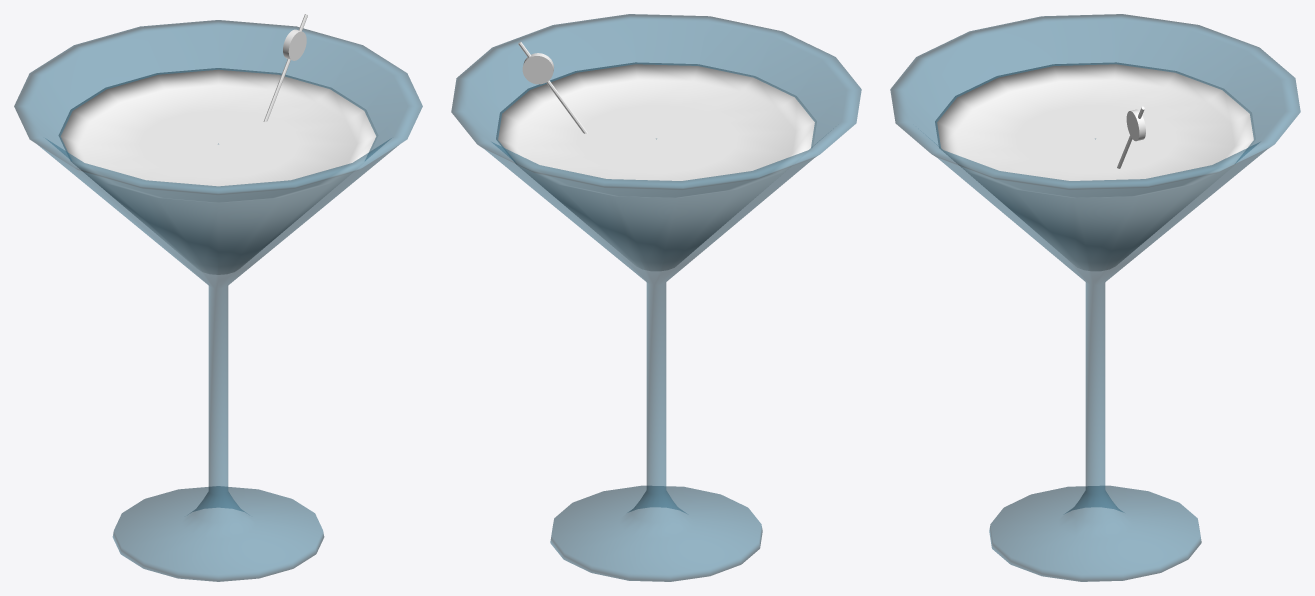
The model's file is Dry Martini1.gltf.
3 views of the same model, side by side, from view 1: azimuth 30°, elevation 25°; view 2: azimuth 150°, elevation 25°; view 3: azimuth 270°, elevation 25° (orthographic).
Parts seen in each view (by area): view 1: Dry Martini Glass, Dry Martini Drink, Stick; view 2: Dry Martini Glass, Dry Martini Drink, Stick; view 3: Dry Martini Glass, Dry Martini Drink, Stick.
Boxes of the visible parts, box(x1,y1,x2,y2) form: Dry Martini Glass: box(14, 20, 422, 581); Dry Martini Drink: box(58, 68, 378, 274); Stick: box(263, 14, 307, 122); Dry Martini Glass: box(451, 14, 861, 581); Dry Martini Drink: box(496, 62, 816, 270); Stick: box(518, 42, 587, 133); Dry Martini Glass: box(890, 14, 1300, 581); Dry Martini Drink: box(935, 62, 1255, 270); Stick: box(1117, 106, 1145, 168).
Size of the model in its own units: 0.1381 by 0.1801 by 0.1381.
5 materials, 1 textured.
